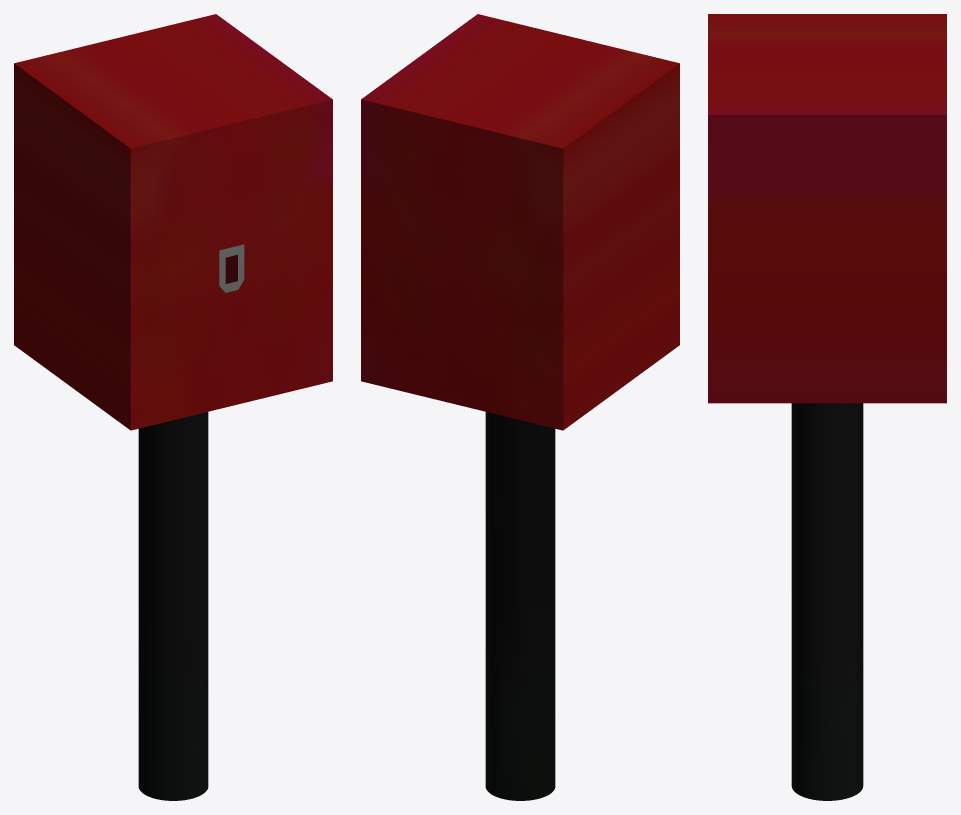
The model's file is MaquinaMoneda_obj.obj.
The picture shows the model from 3 angles, left to right: view 1: azimuth 30°, elevation 25°; view 2: azimuth 150°, elevation 25°; view 3: azimuth 270°, elevation 25°; orthographic projection. The views are drawn at different scales.
Visible parts, largest first — view 1: Parte_Superior, Parte_Inferior; view 2: Parte_Superior, Parte_Inferior; view 3: Parte_Superior, Parte_Inferior.
Part boxes in pixels (x1,y1,x2,y2): Parte_Superior: (14,14,332,430); Parte_Inferior: (138,412,208,800); Parte_Superior: (361,14,679,430); Parte_Inferior: (485,412,555,800); Parte_Superior: (708,14,946,403); Parte_Inferior: (791,403,863,800).
Bounding box in the file's own units: 15 × 50 × 15.
